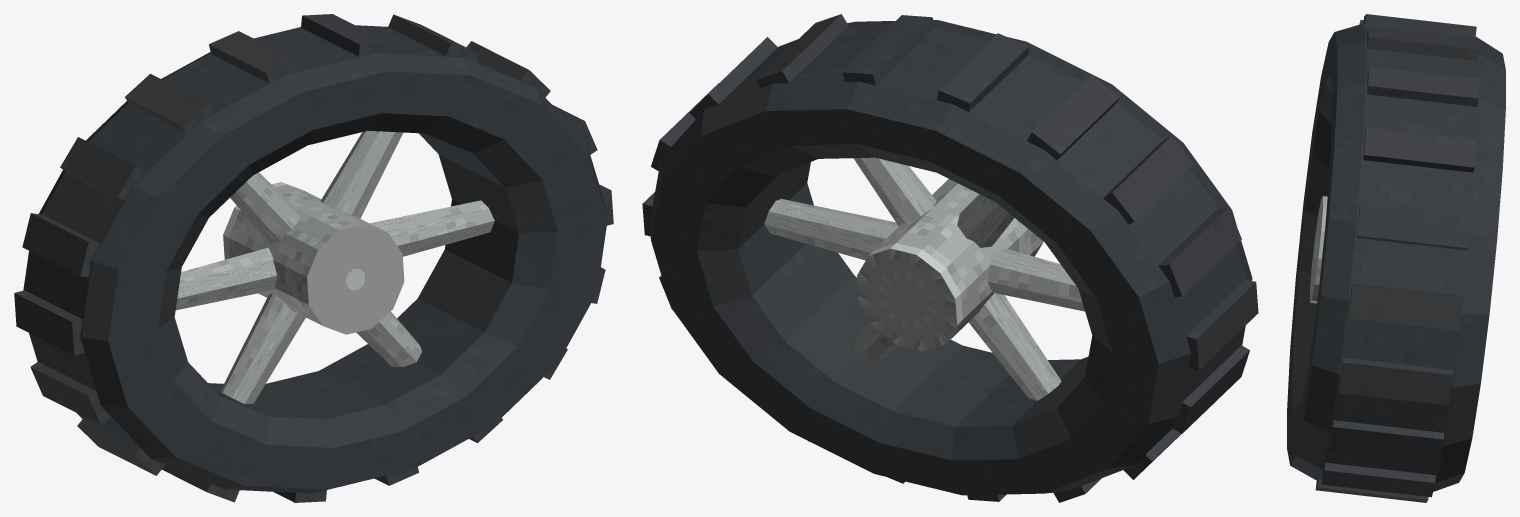
The model's file is deflated_wheel.glb.
The picture shows the model from 3 angles, left to right: view 1: azimuth 30°, elevation 25°; view 2: azimuth 150°, elevation 25°; view 3: azimuth 270°, elevation 25°; orthographic projection. The views are drawn at different scales.
Parts seen in each view (by area): view 1: block_wheel cross section, block_tread block (×11), block_radial spoke (×6), block_wheel hub; view 2: block_wheel cross section, block_tread block (×11), block_radial spoke (×6), block_wheel hub; view 3: block_wheel cross section, block_tread block (×10), block_wheel hub.
Boxes of the visible parts, left/top/right/bottom form: block_wheel cross section: left=23, top=25, right=607, bottom=493; block_tread block (×11): left=14, top=14, right=550, bottom=502; block_radial spoke (×6): left=175, top=130, right=494, bottom=404; block_wheel hub: left=223, top=182, right=404, bottom=334; block_wheel cross section: left=649, top=20, right=1252, bottom=495; block_tread block (×11): left=651, top=14, right=1258, bottom=479; block_radial spoke (×6): left=764, top=157, right=1084, bottom=400; block_wheel hub: left=857, top=179, right=1043, bottom=351; block_wheel cross section: left=1287, top=23, right=1505, bottom=491; block_tread block (×10): left=1315, top=14, right=1479, bottom=502; block_wheel hub: left=1310, top=196, right=1327, bottom=303.
Bounding box in the file's own units: 0.432 × 0.3314 × 0.1589.
1 material, 1 textured.
